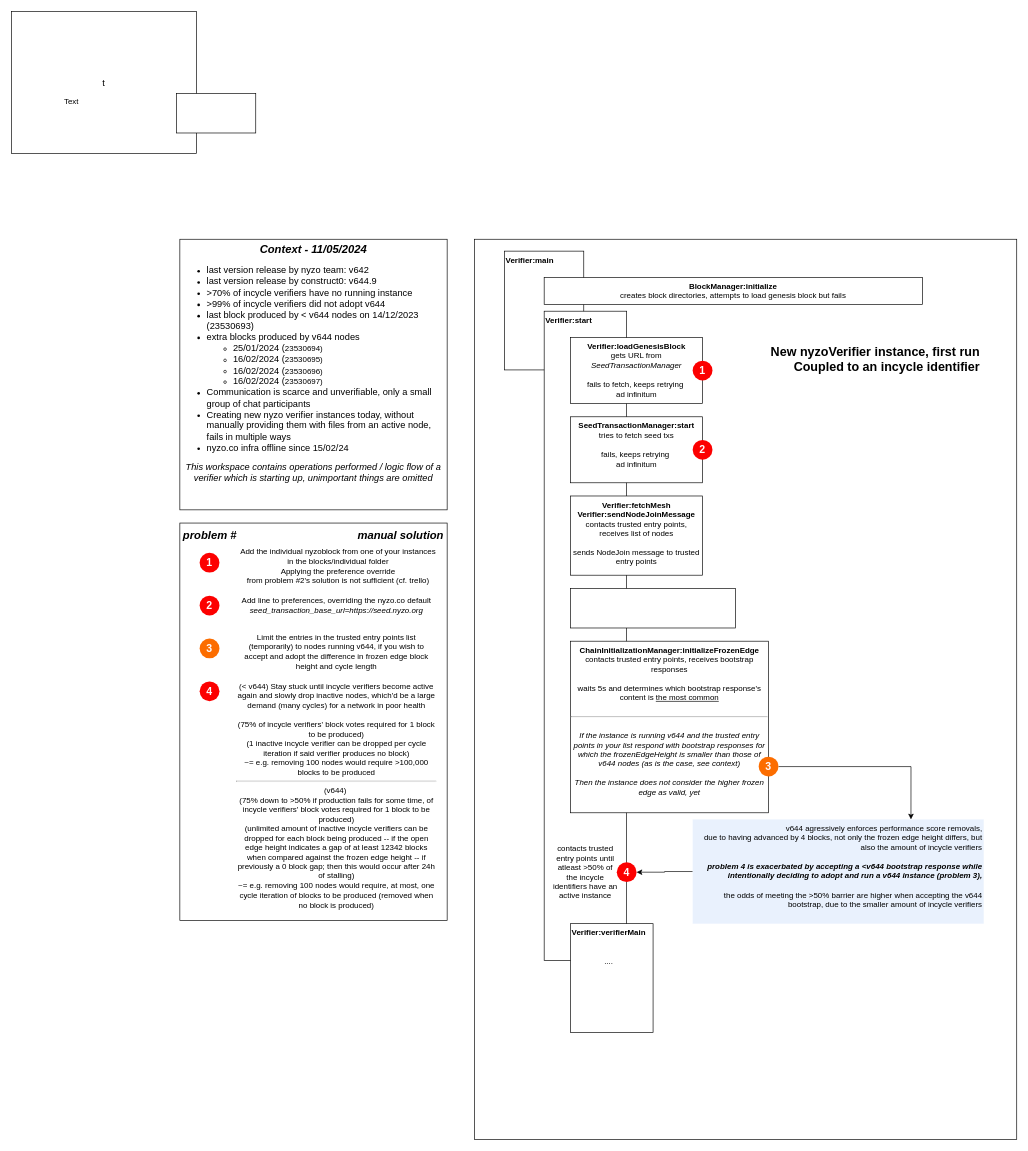
Image size: 1028x1151. Some labels were removed from this diagram. Here are the shapes that lost their labels. From the top down, the centre of each, then its label:
the point at 216,113: ttt t
the point at 653,608: NodeManager:sendNodeJoinRequests sends NodeJoin message to nodes
